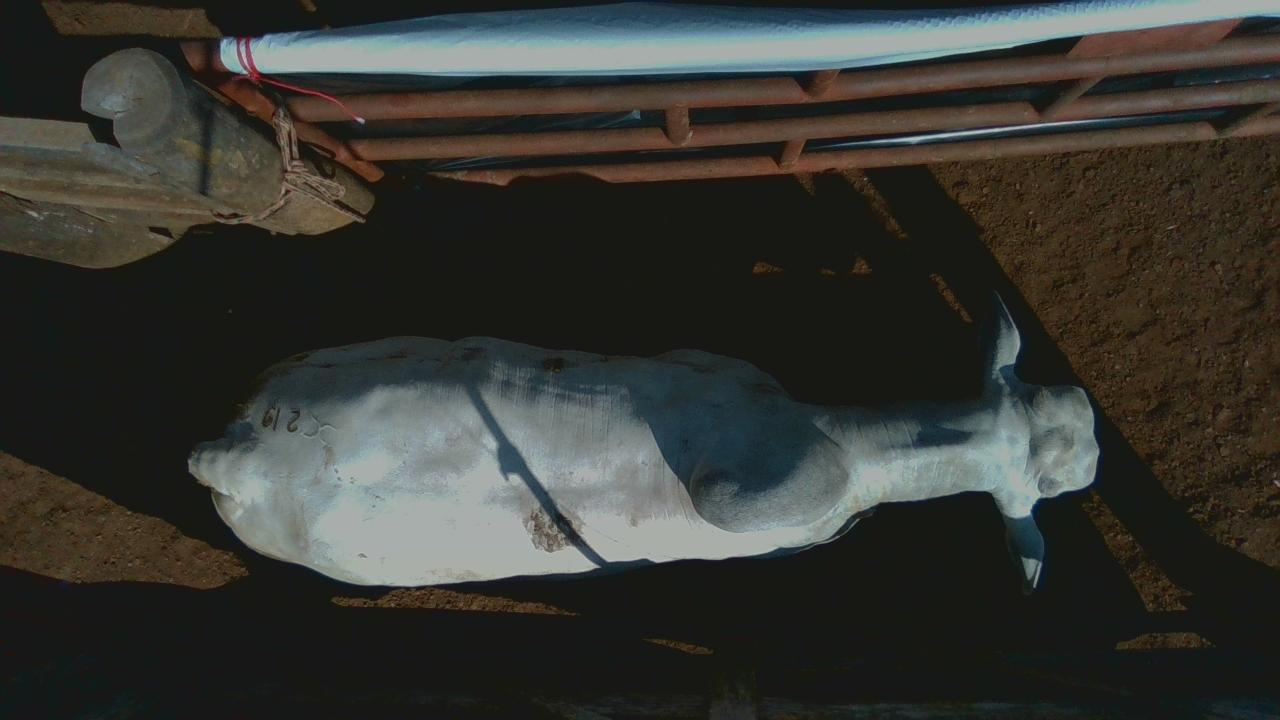cattle: (187, 288, 1100, 594)
